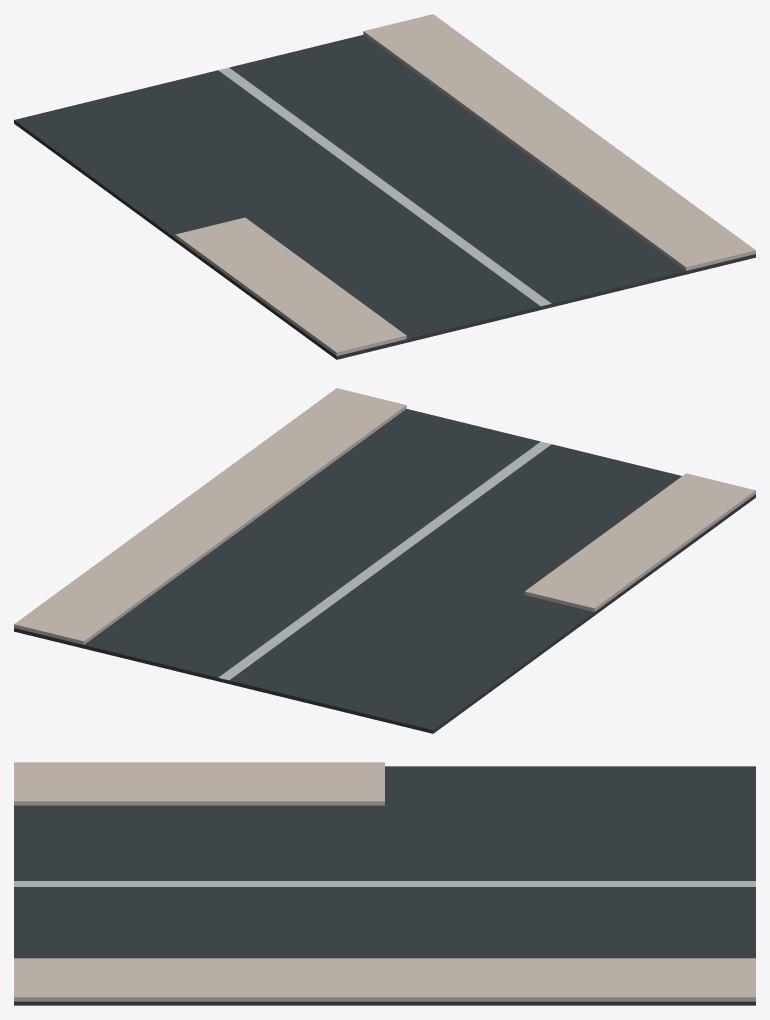
File: SM_road_06_001.glb
The picture shows the model from 3 angles, top to bottom: view 1: azimuth 30°, elevation 25°; view 2: azimuth 150°, elevation 25°; view 3: azimuth 270°, elevation 25°; orthographic projection. The views are drawn at different scales.
Visible parts, largest first — view 1: SM_road_06.001; view 2: SM_road_06.001; view 3: SM_road_06.001.
Part boxes in pixels (<box>): SM_road_06.001: <box>14,14,755,359</box>; SM_road_06.001: <box>14,388,755,733</box>; SM_road_06.001: <box>14,762,755,1005</box>.
Size of the model in its own units: 6 by 0.1 by 8.
1 material, 1 textured.
